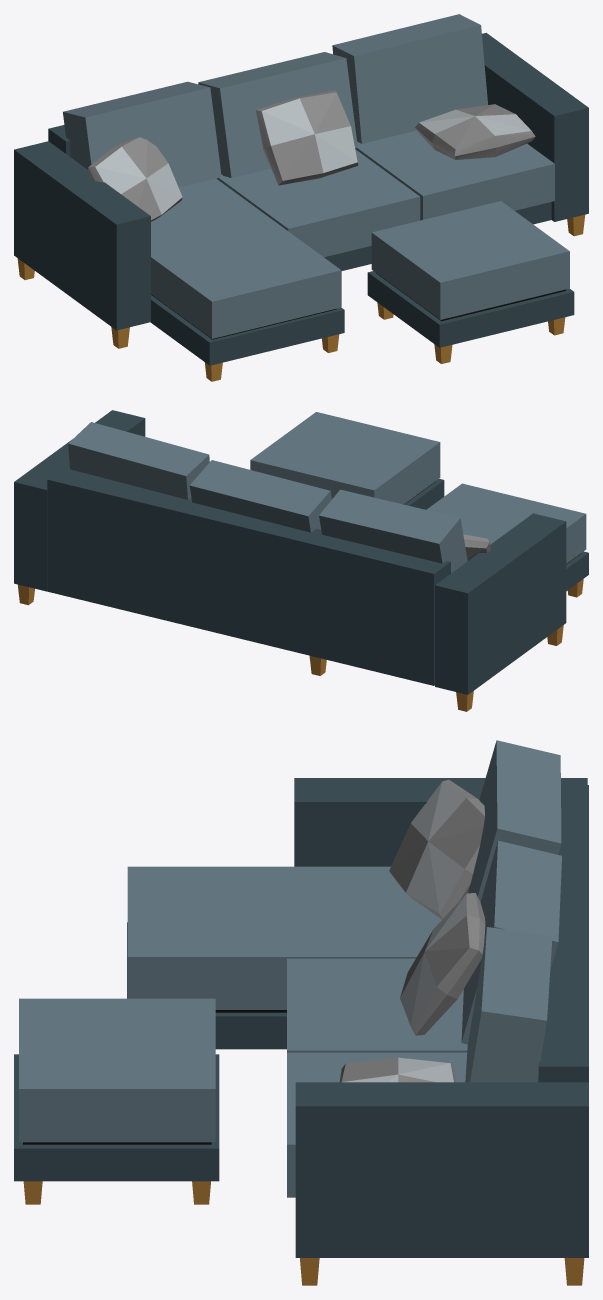
3 views of the same model, one above another, from view 1: azimuth 30°, elevation 25°; view 2: azimuth 150°, elevation 25°; view 3: azimuth 270°, elevation 25° (orthographic). The views are drawn at different scales.
Parts seen in each view (by area): view 1: node_MeshObject-1621278720-PolyPaper13; view 2: node_MeshObject-1621278720-PolyPaper13; view 3: node_MeshObject-1621278720-PolyPaper13.
Part boxes in pixels (<box>): node_MeshObject-1621278720-PolyPaper13: <box>14,14,588,381</box>; node_MeshObject-1621278720-PolyPaper13: <box>14,410,588,711</box>; node_MeshObject-1621278720-PolyPaper13: <box>14,740,588,1285</box>.
Bounding box in the file's own units: 1.86 × 0.6509 × 1.37.
